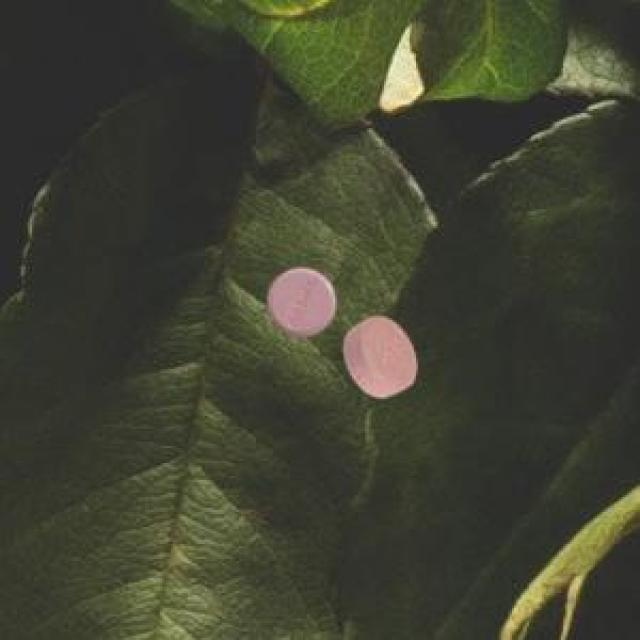Kremil_S: (338, 296, 432, 408), (249, 252, 341, 336)
